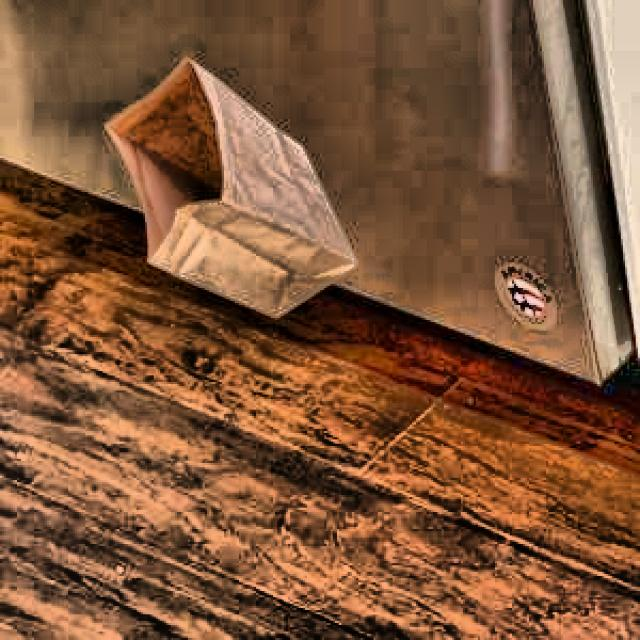Paper-bag: (101, 61, 363, 343)
